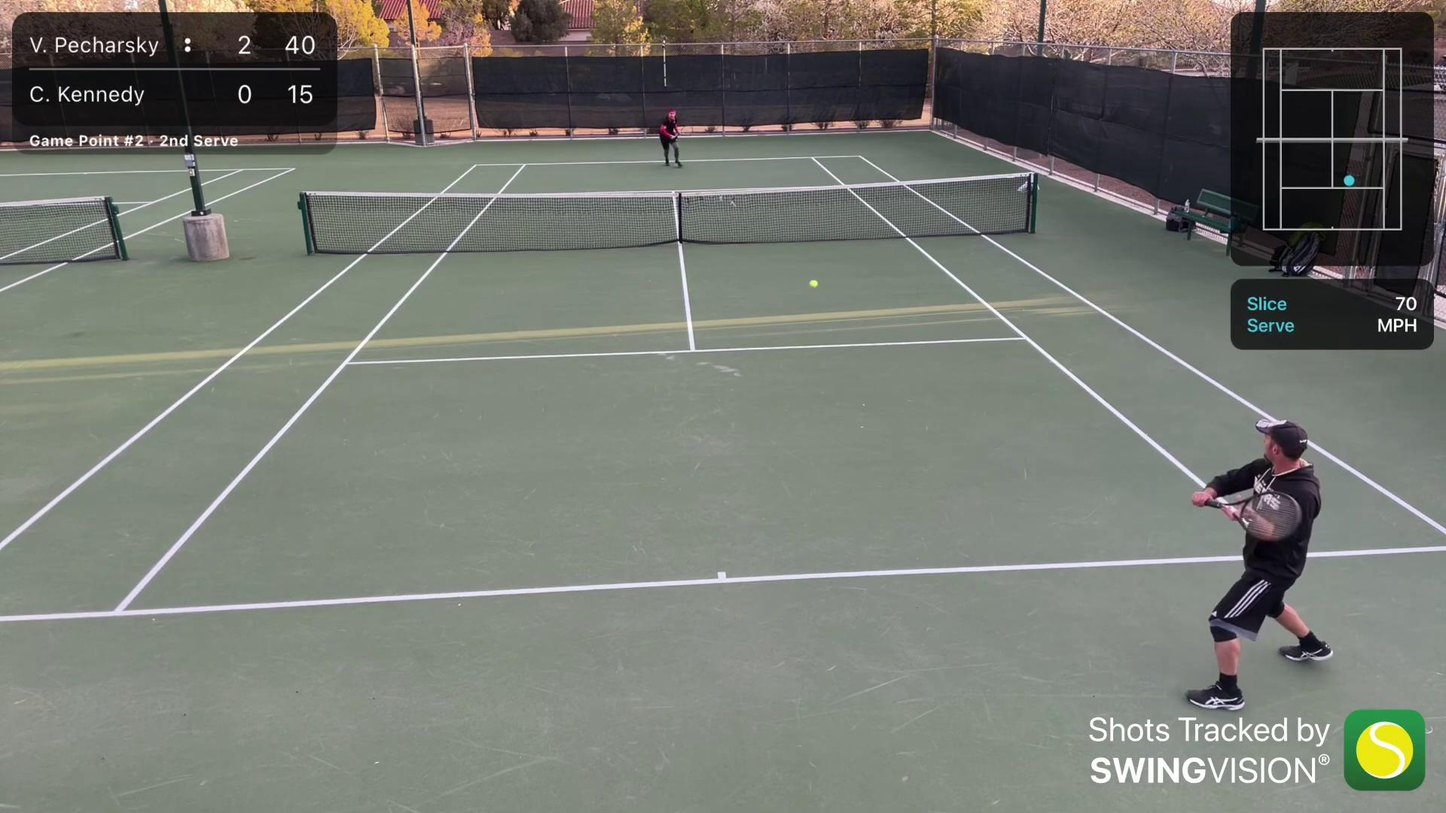ball: (808, 278, 819, 289)
